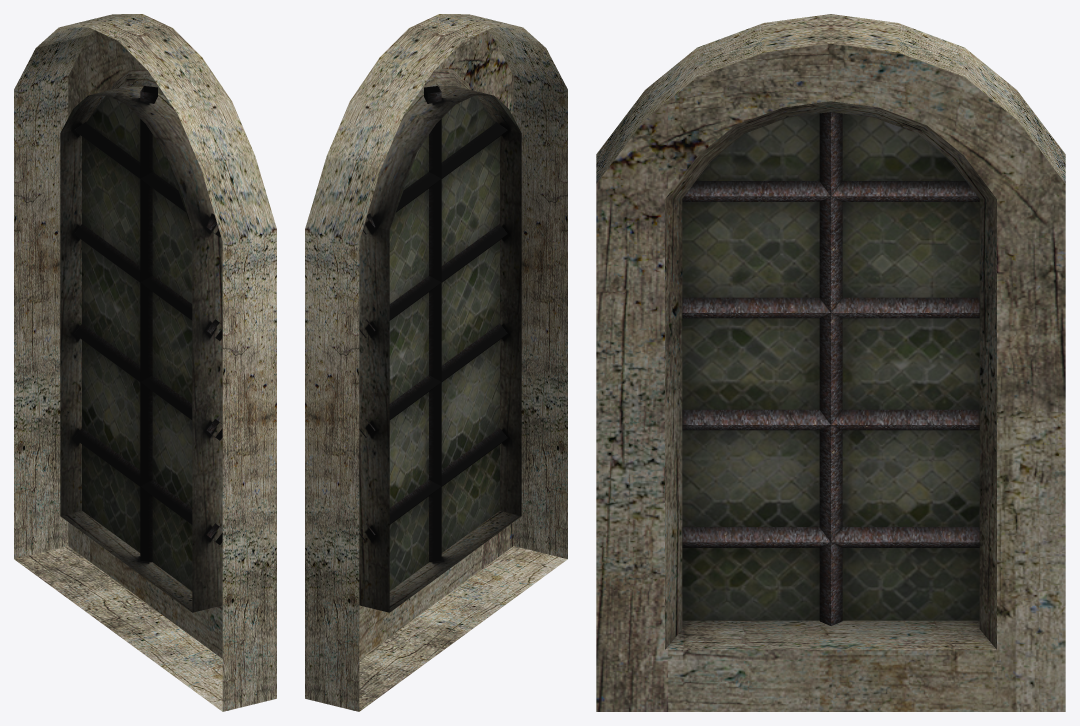
The model's file is Win1.fbx.
3 renders of one model, left to right at view 1: azimuth 30°, elevation 25°; view 2: azimuth 150°, elevation 25°; view 3: azimuth 270°, elevation 25°, orthographic. The views are drawn at different scales.
Visible parts, largest first — view 1: Mesh; view 2: Mesh; view 3: Mesh.
Part boxes in pixels (box(x1,y1,x2,y2)): Mesh: box(14, 14, 276, 711); Mesh: box(305, 14, 567, 711); Mesh: box(596, 14, 1065, 711).
Size of the model in its own units: 13.2 by 138 by 88.03.
